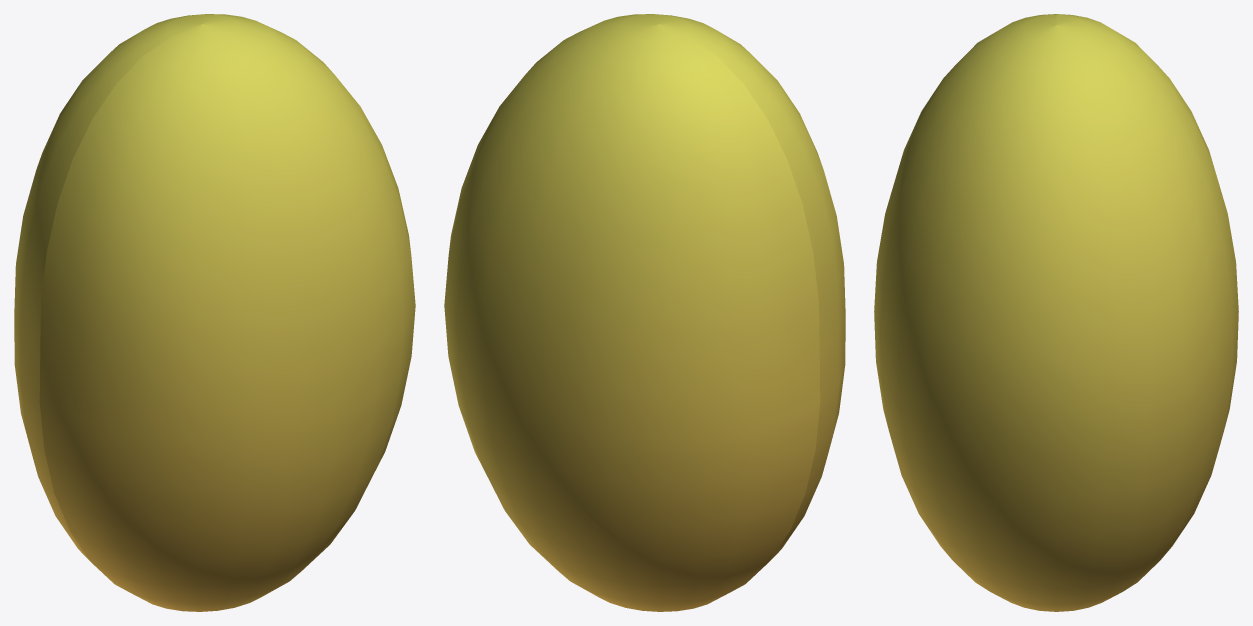
Rendered from mango.glb.
3 views of the same model, side by side, from view 1: azimuth 30°, elevation 25°; view 2: azimuth 150°, elevation 25°; view 3: azimuth 270°, elevation 25° (orthographic).
Visible parts, largest first — view 1: mango; view 2: mango; view 3: mango.
Boxes of the visible parts, x1=… form: mango: x1=14, y1=14, x2=415, y2=611; mango: x1=444, y1=14, x2=845, y2=611; mango: x1=874, y1=14, x2=1238, y2=611.
Size of the model in its own units: 0.6731 by 1.04 by 0.6.
